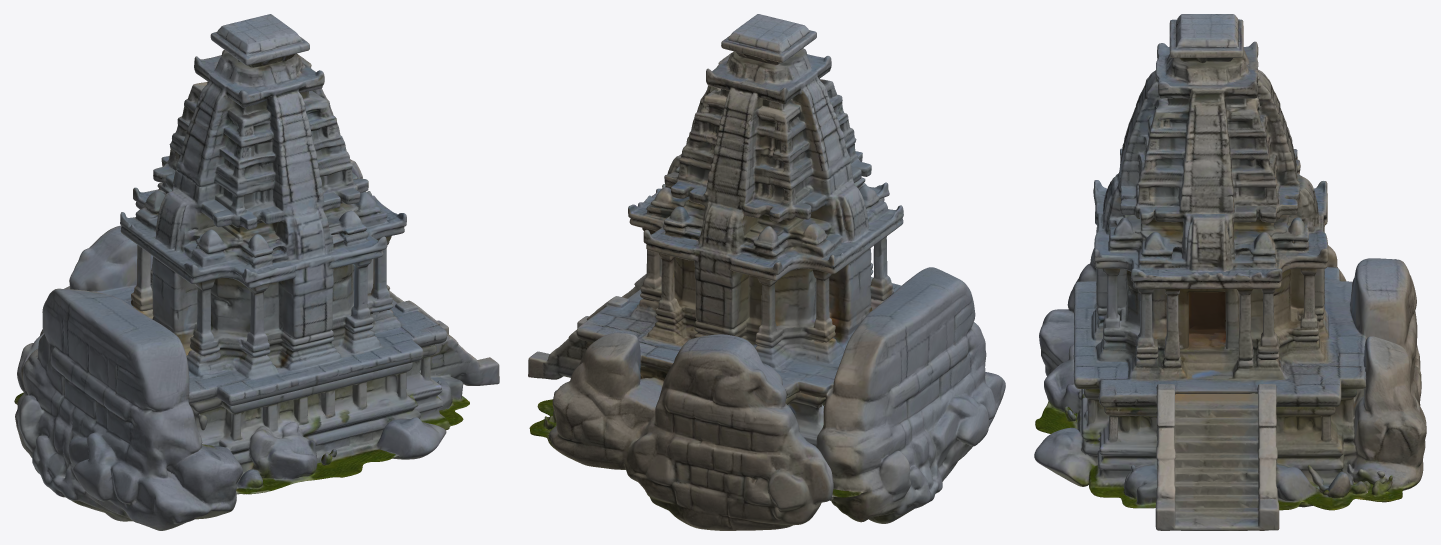
File: stone_temple1.glb
The picture shows the model from 3 angles, left to right: view 1: azimuth 30°, elevation 25°; view 2: azimuth 150°, elevation 25°; view 3: azimuth 270°, elevation 25°; orthographic projection. The views are drawn at different scales.
Size of the model in its own units: 0.9663 by 0.9999 by 0.7785.
Materials: 1 (1 with a texture image).
